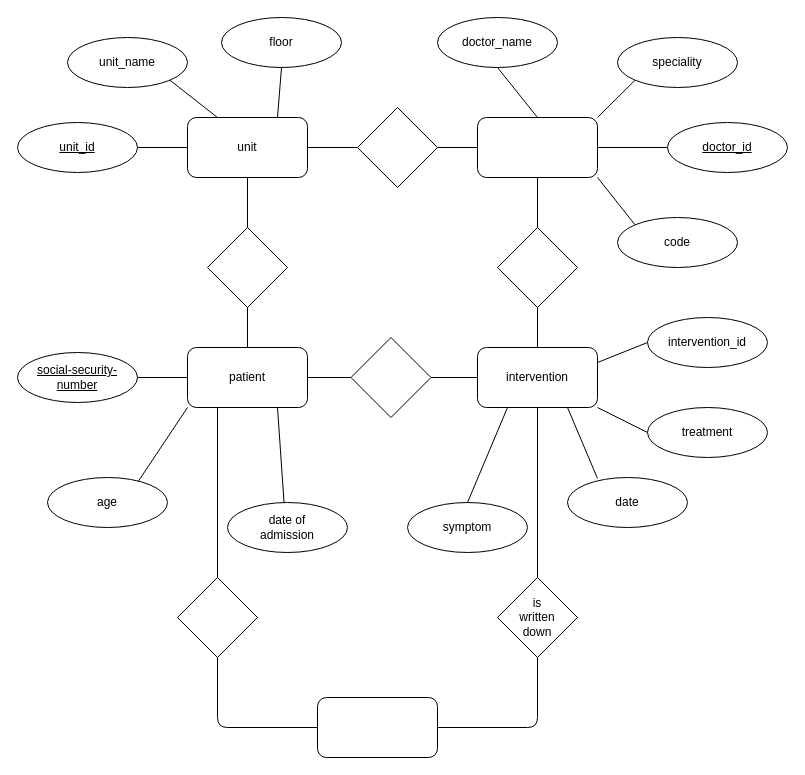
Some shapes in this 805 by 775 pixel diagram are drawn without their labels. Each missing label, with the box of its shape:
are admitted to: (206, 226, 288, 308)
case history: (316, 696, 438, 758)
doctor: (476, 116, 598, 178)
get: (350, 336, 431, 418)
has: (176, 576, 258, 658)
in charge of: (356, 106, 438, 188)
realized by: (496, 226, 578, 308)
